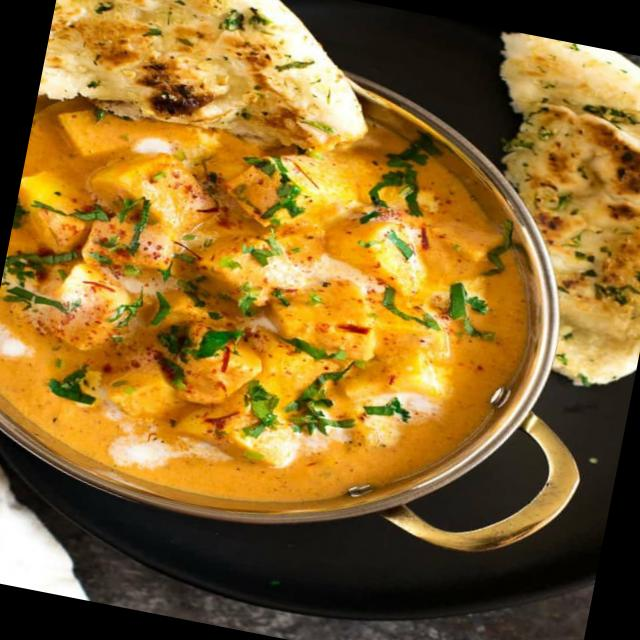ShahiPaneer: (0, 52, 567, 569)
